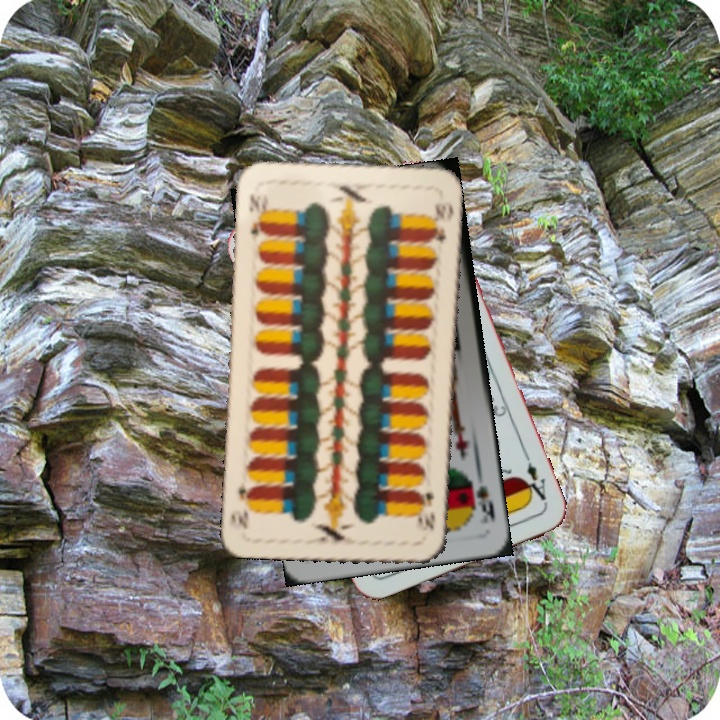E10: (245, 189, 269, 242), (414, 488, 438, 534)
EA: (518, 451, 550, 508)
SK: (466, 476, 498, 526)
